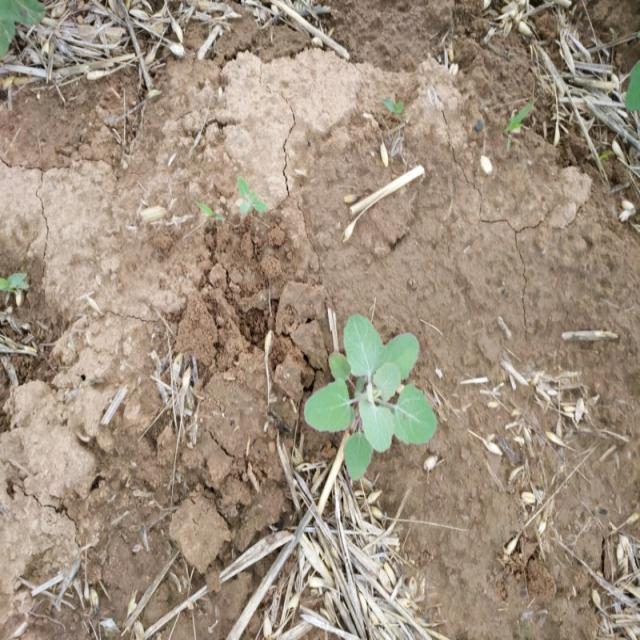goosefoots: (296, 309, 454, 486)
